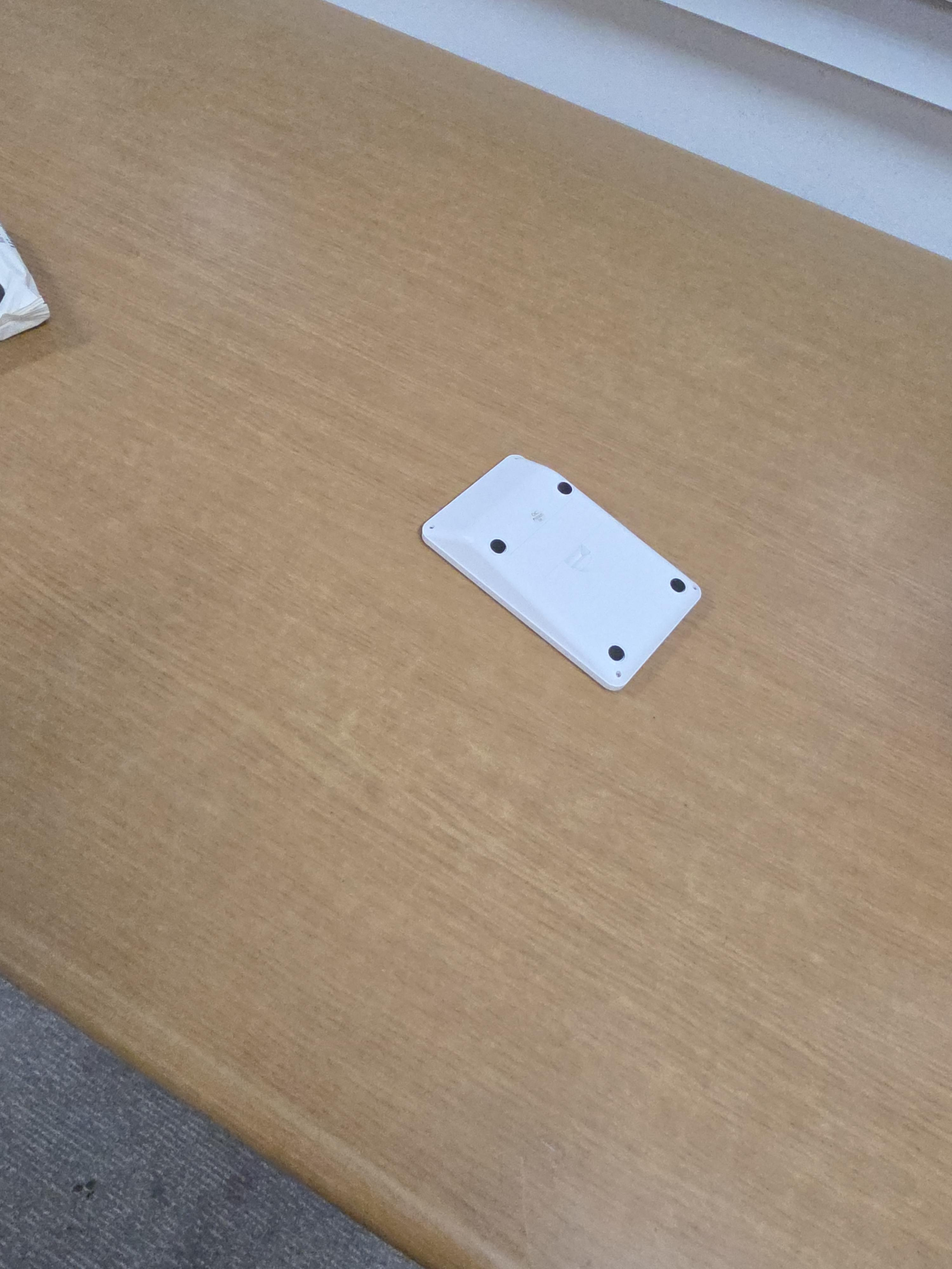calculator: (421, 454, 702, 692)
tissue: (0, 223, 50, 341)
